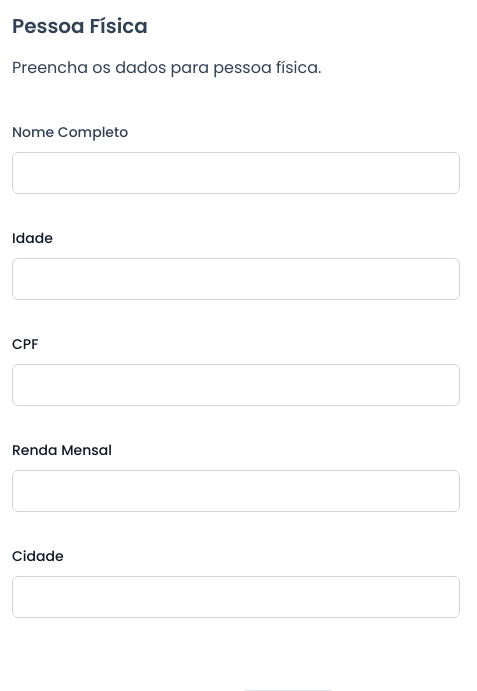
Test: NaturalForm › input validations › should show an error if name has less than 8 characters
Type "João" into the field labelled "Nome Completo" at x=236, y=173, box [12,152,460,194]
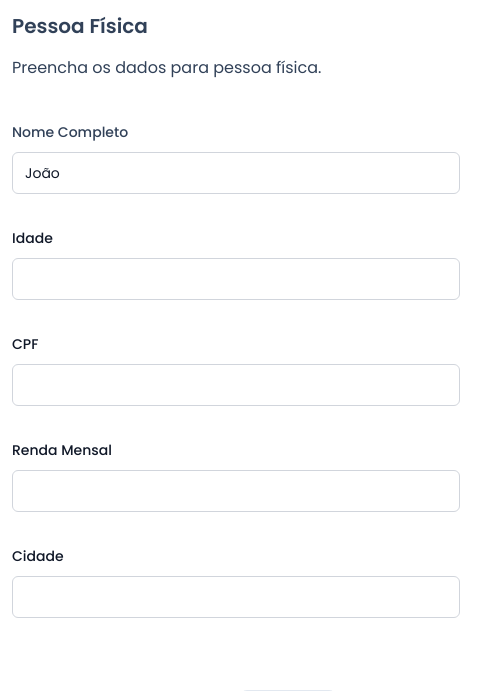
Leave the field labelled "Nome Completo", box [12,152,460,194]
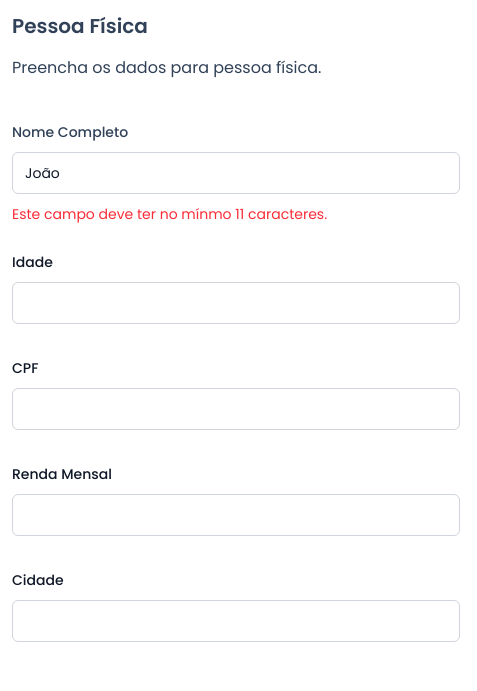
Check: the text "Este campo deve ter no mínmo 11 caracteres." is shown, box [12,204,327,224]
